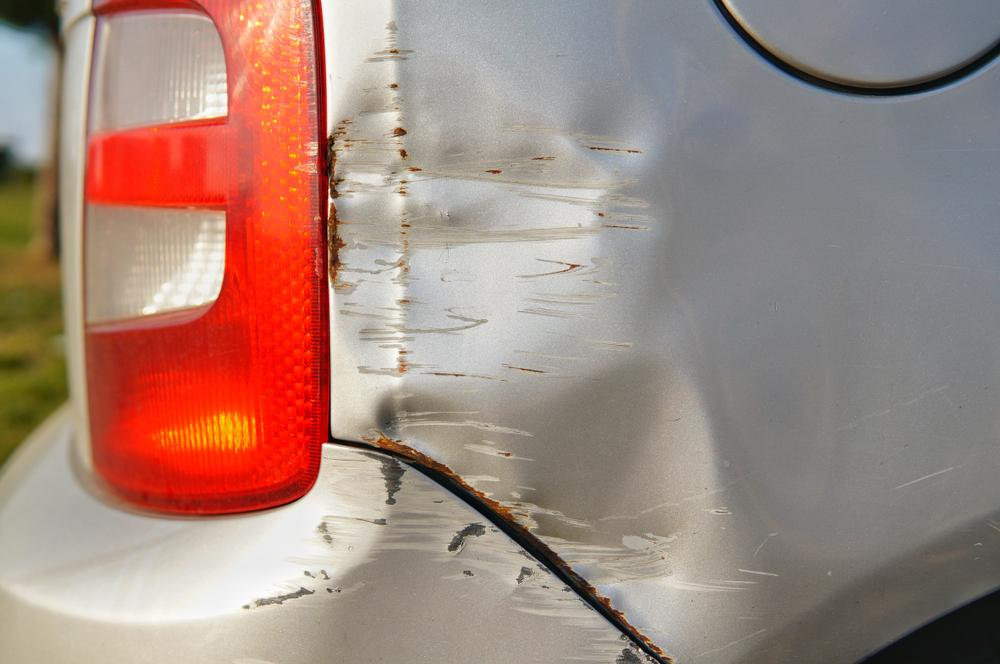dent: (331, 42, 711, 635)
scratch: (237, 445, 661, 664)
